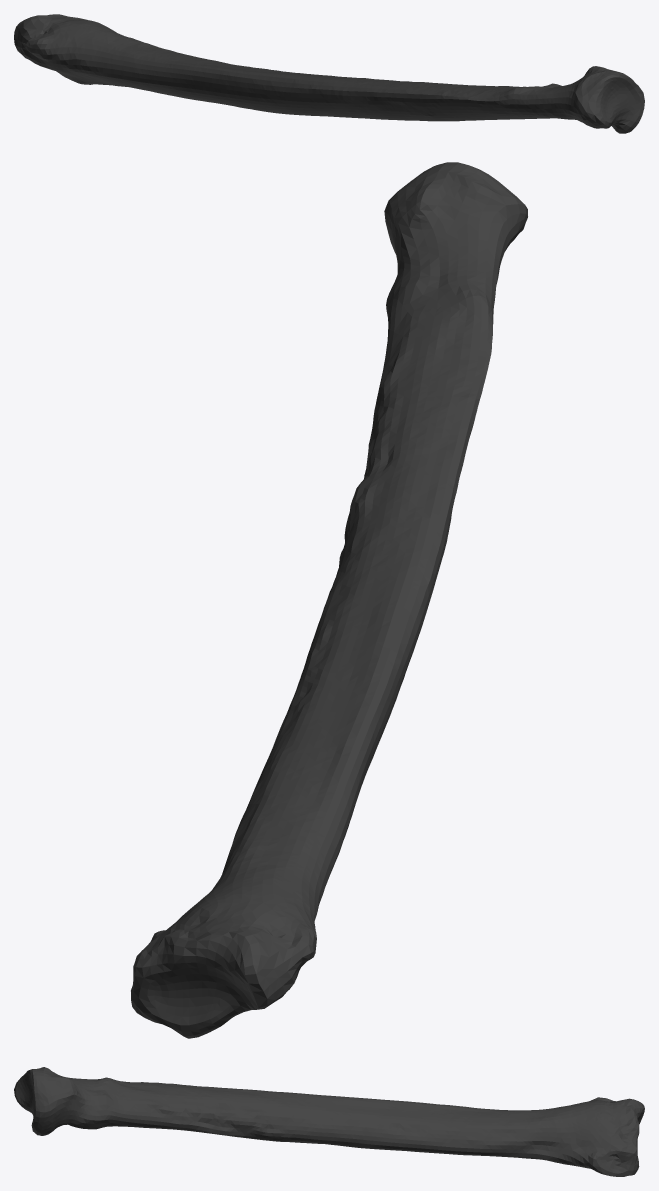
Rendered from Radius.glb.
The picture shows the model from 3 angles, top to bottom: view 1: azimuth 30°, elevation 25°; view 2: azimuth 150°, elevation 25°; view 3: azimuth 270°, elevation 25°; orthographic projection. The views are drawn at different scales.
Visible parts, largest first — view 1: Radius; view 2: Radius; view 3: Radius.
Boxes of the visible parts, <box> form: Radius: <box>14,14,644,133</box>; Radius: <box>131,162,527,1038</box>; Radius: <box>14,1067,644,1176</box>.
Size of the model in its own units: 0.9599 by 0.6749 by 2.15.
1 material, 1 textured.
